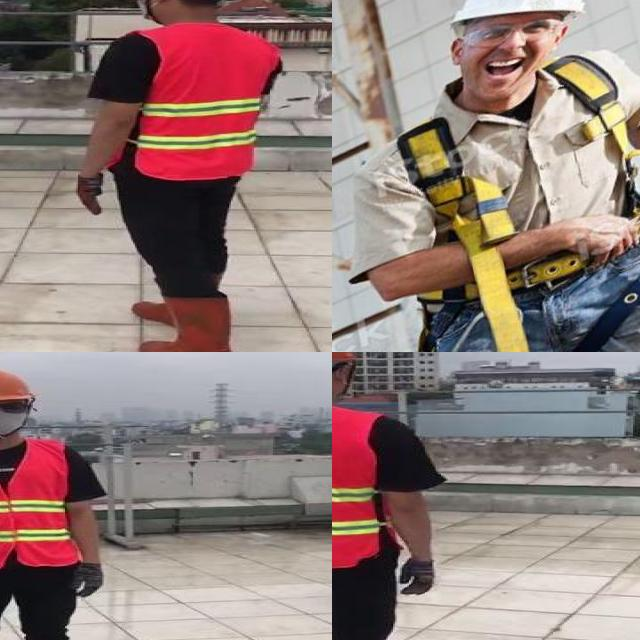Harness: (396, 48, 640, 352)
boots: (134, 289, 234, 352)
face_mask: (0, 397, 34, 435)
glasses: (0, 396, 29, 416)
hand_glove: (396, 557, 444, 594), (76, 174, 108, 215), (74, 566, 108, 596)
head_helmet: (0, 367, 34, 404)
person: (64, 0, 295, 352), (0, 365, 121, 640), (332, 352, 447, 640)
vest: (124, 24, 279, 182), (0, 437, 81, 570), (332, 405, 398, 566)
